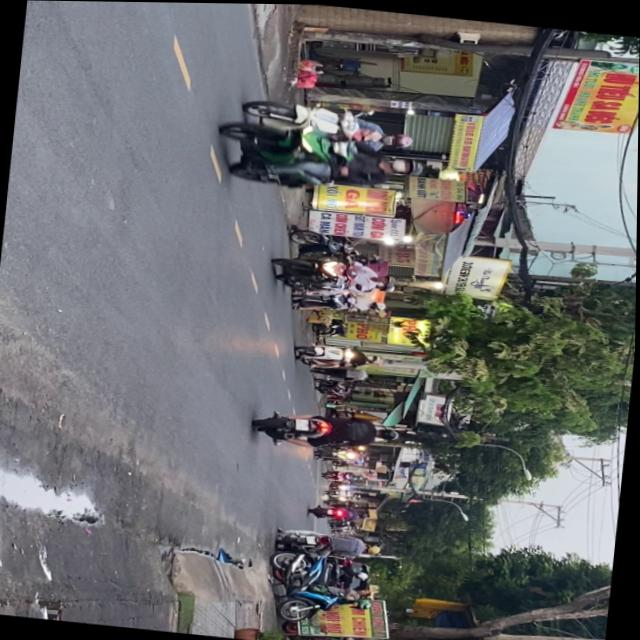helmet: (389, 154, 426, 175), (384, 128, 415, 147), (378, 424, 402, 438)
licenseplate: (216, 115, 430, 201), (238, 91, 419, 150), (254, 403, 403, 453), (269, 248, 402, 299)
nohelmet: (297, 416, 312, 429)
